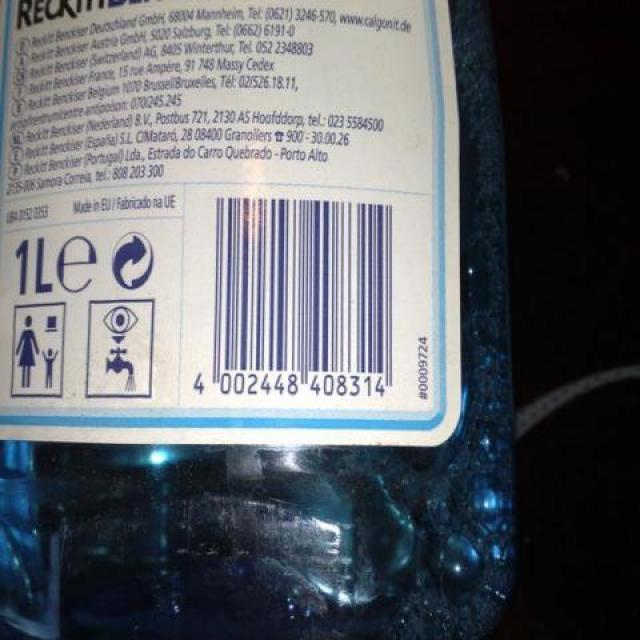Barcode: (186, 185, 418, 411)
